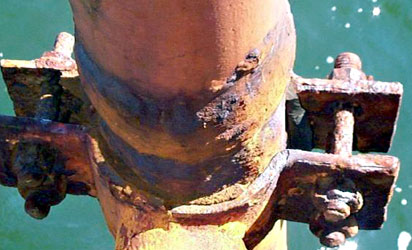rust: (101, 151, 247, 229), (282, 160, 384, 238), (1, 115, 74, 217)
